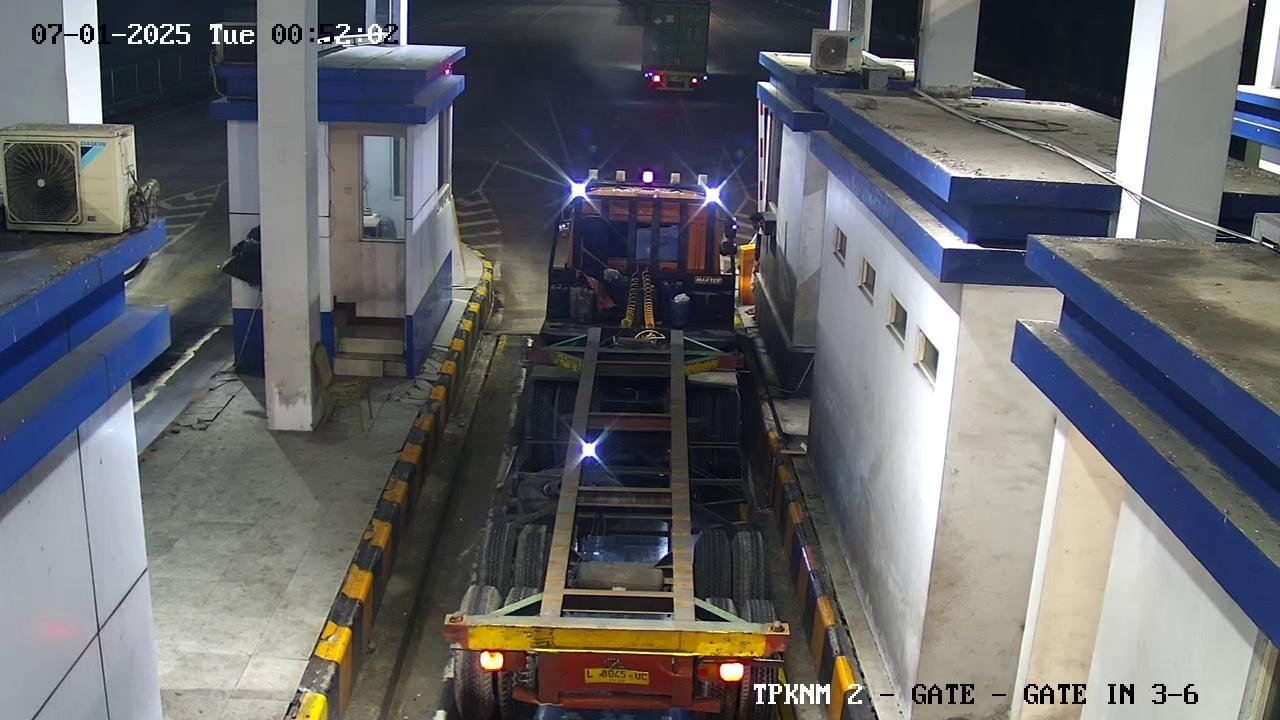plate_number: (572, 648, 675, 697)
